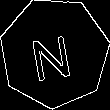N_N: (31, 24, 78, 81)
